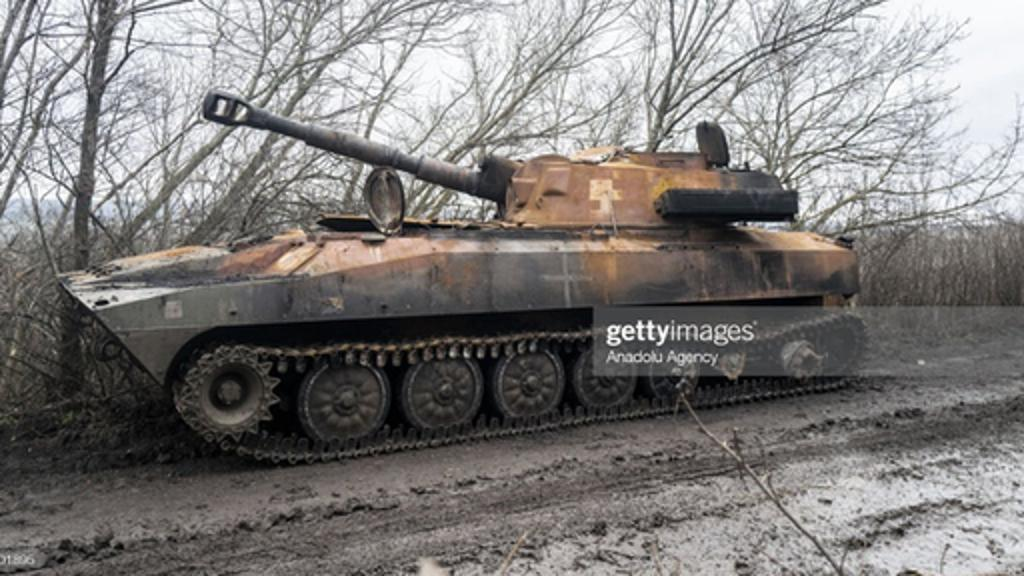ART: (54, 78, 868, 468)
